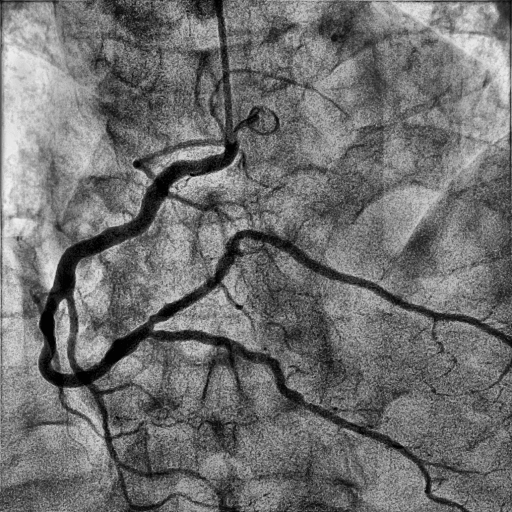pborca: (148, 229, 504, 339)
pda: (151, 330, 468, 512)
rca: (38, 151, 236, 388)
